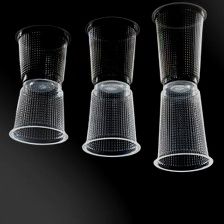glass: (150, 79, 217, 180), (149, 0, 213, 89), (78, 74, 144, 159), (8, 74, 71, 149), (81, 15, 142, 87), (9, 22, 75, 87)
